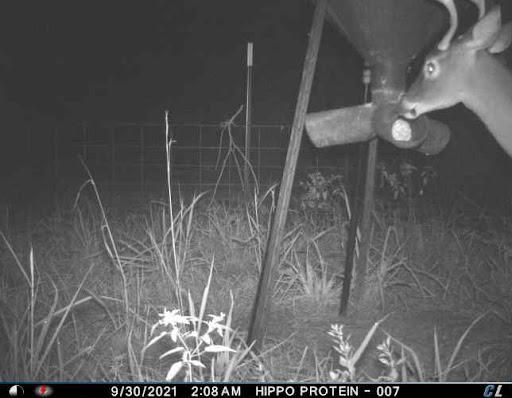Deer: (395, 0, 512, 164)
